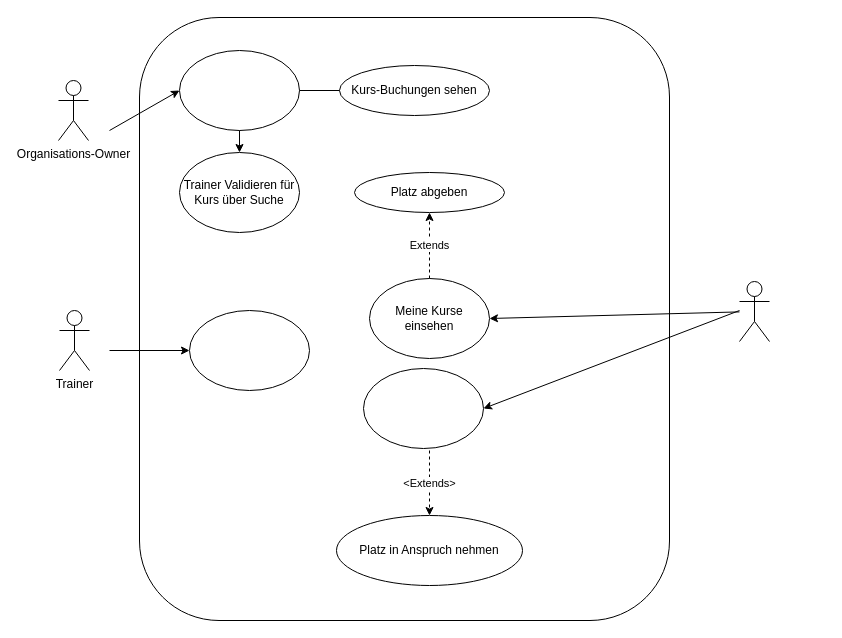
Some shapes in this 842 by 638 pixel diagram are drawn without their labels. Each missing label, with the box of its shape:
Frei Plätze einsehen: (362, 368, 484, 448)
Kurs Suche über OrgaSST / Kurs anlegen: (178, 50, 300, 130)
Teilnehmer / General User: (738, 280, 770, 342)
Teilnehmer validieren für meine Kurse: (188, 310, 310, 390)
